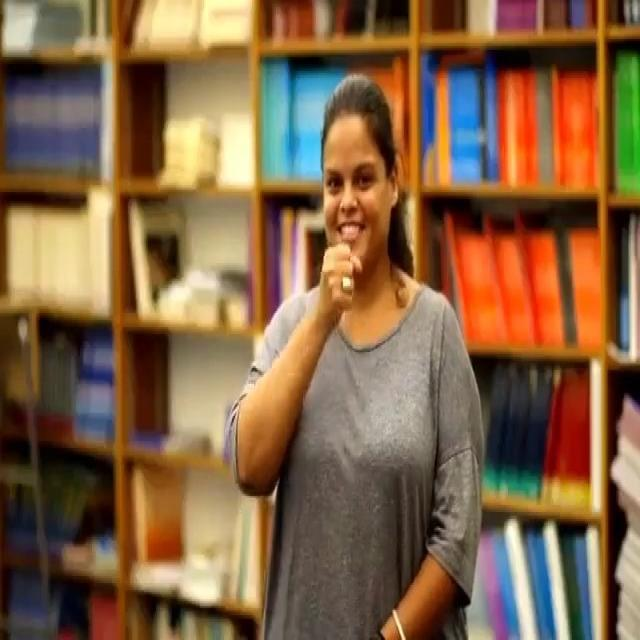icecream: (304, 230, 366, 350)
